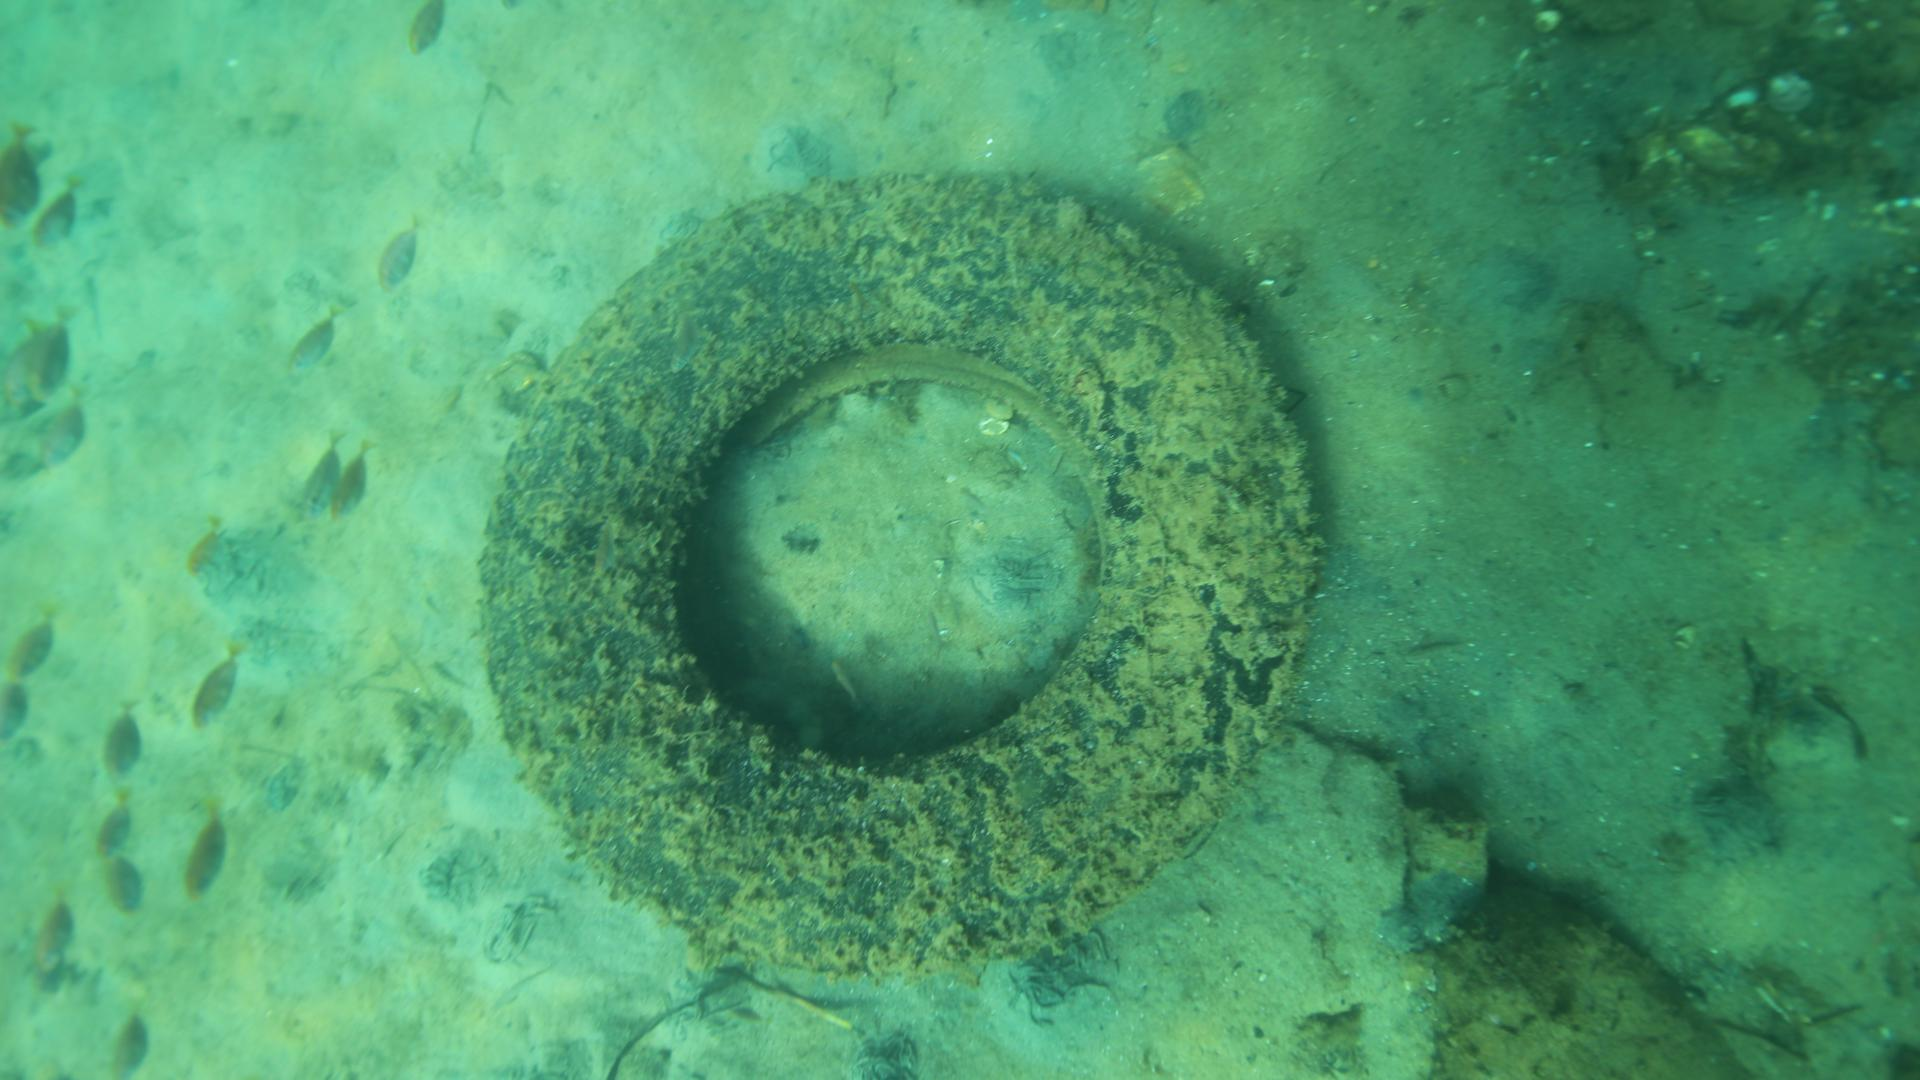tire: (479, 174, 1320, 973)
